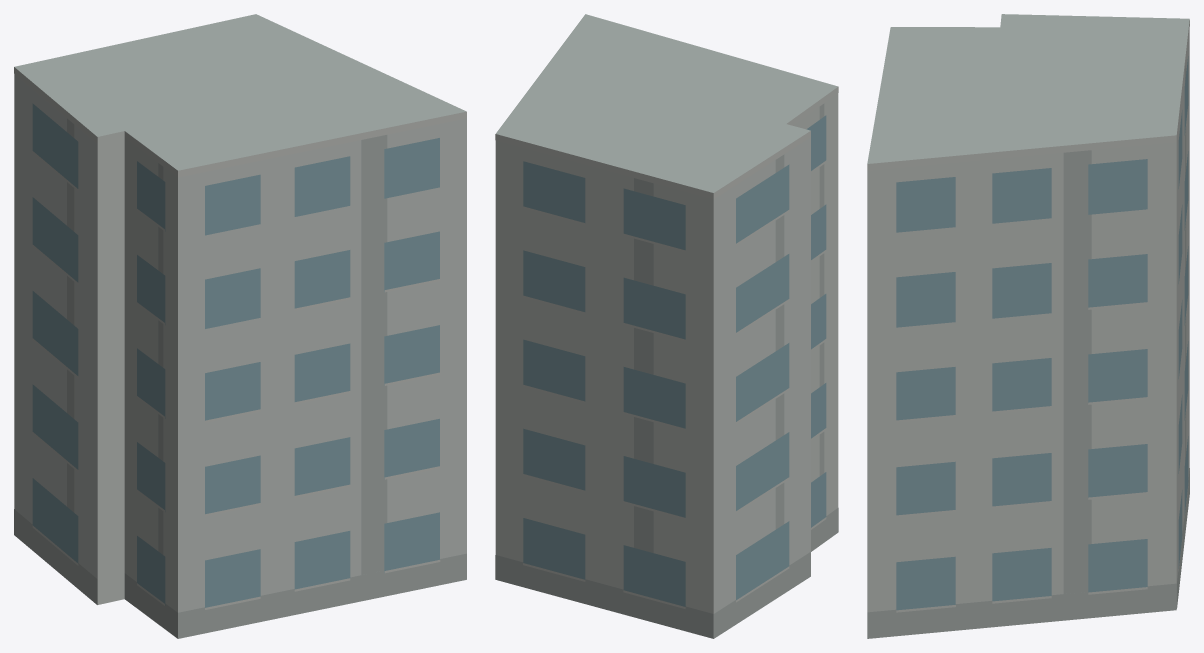
File: survey-upis-32800711.glb
3 renders of one model, left to right at view 1: azimuth 30°, elevation 25°; view 2: azimuth 150°, elevation 25°; view 3: azimuth 270°, elevation 25°, orthographic. The views are drawn at different scales.
Visible parts, largest first — view 1: survey-upis-32800711.tmp; view 2: survey-upis-32800711.tmp; view 3: survey-upis-32800711.tmp.
Boxes of the visible parts, box(x1,y1,x2,y2) form: survey-upis-32800711.tmp: box(14, 14, 466, 638); survey-upis-32800711.tmp: box(495, 14, 838, 638); survey-upis-32800711.tmp: box(867, 14, 1189, 638).
Bounding box in the file's own units: 11.29 × 16.65 × 10.26.
